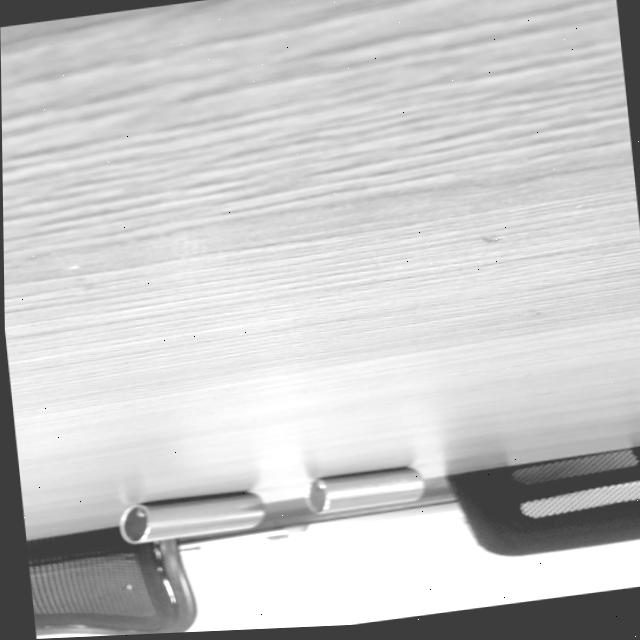Co_Lon: (117, 487, 266, 545)
Co_Nho: (304, 464, 426, 515)
